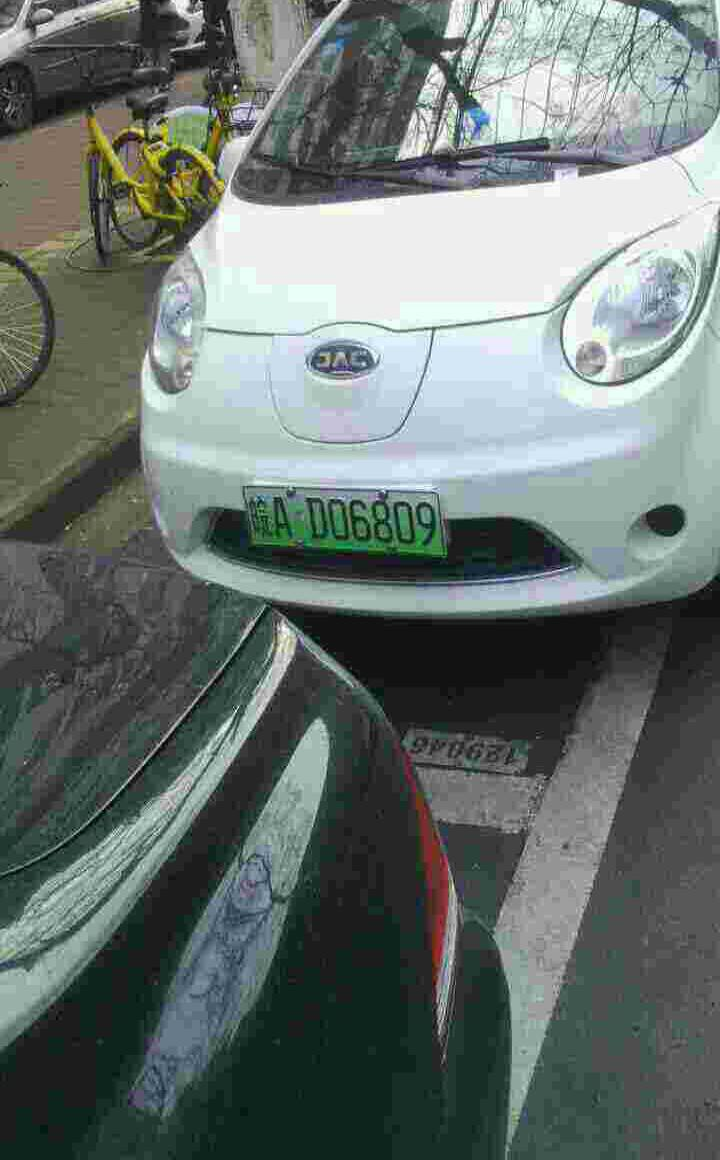car: (237, 475, 463, 568)
